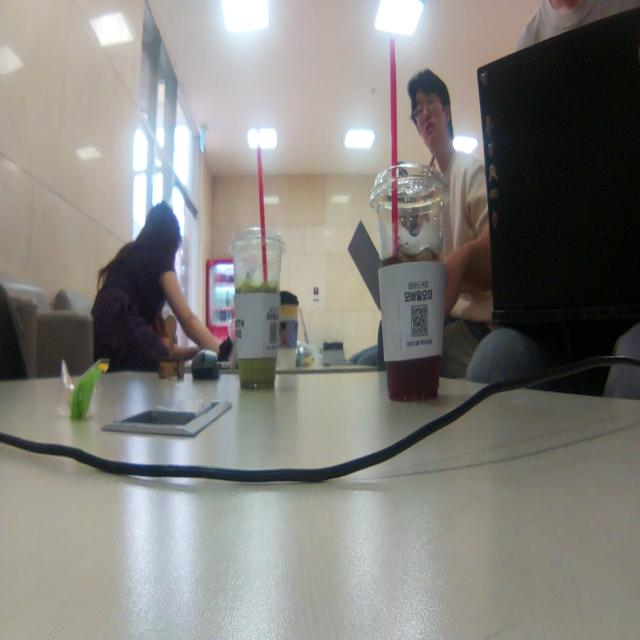target: (158, 314, 185, 381)
